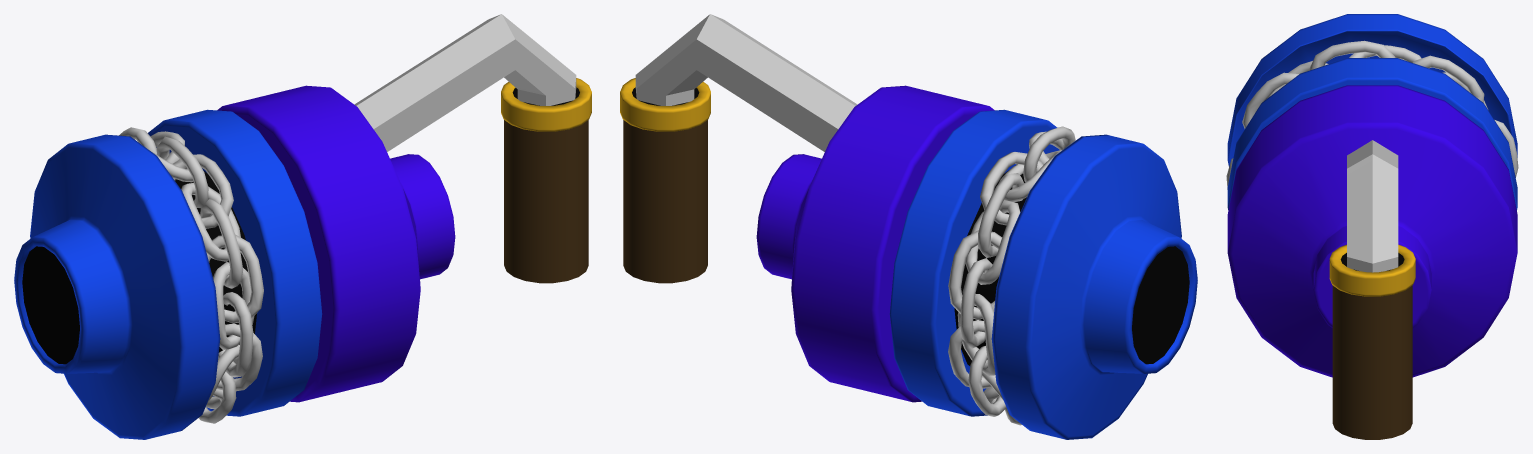
The model's file is HookshotHandleB.glb.
3 renders of one model, left to right at view 1: azimuth 30°, elevation 25°; view 2: azimuth 150°, elevation 25°; view 3: azimuth 270°, elevation 25°, orthographic. The views are drawn at different scales.
Parts seen in each view (by area): view 1: Body Upper, Body Lower, Handle Bar, Grips Inner, Chain 2, Chain 1, Upper Void, Grip Outer, Body Void; view 2: Body Upper, Body Lower, Handle Bar, Grips Inner, Chain 1, Chain 2, Upper Void, Grip Outer, Body Void; view 3: Body Lower, Body Upper, Grips Inner, Handle Bar, Grip Outer, Chain 2, Chain 1.
Part boxes in pixels (x1,y1,x2,y2): Body Upper: (14, 109, 322, 439); Body Lower: (217, 85, 455, 402); Handle Bar: (354, 14, 576, 151); Grips Inner: (504, 120, 588, 283); Chain 2: (119, 127, 262, 423); Chain 1: (150, 131, 263, 409); Upper Void: (22, 246, 79, 364); Grip Outer: (501, 78, 591, 131); Body Void: (175, 171, 256, 352); Body Upper: (889, 109, 1197, 439); Body Lower: (756, 85, 994, 402); Handle Bar: (635, 14, 857, 151); Grips Inner: (623, 120, 707, 283); Chain 1: (948, 126, 1075, 425); Chain 2: (948, 131, 1063, 416); Upper Void: (1132, 246, 1189, 364); Grip Outer: (620, 78, 710, 131); Body Void: (954, 164, 1026, 365); Body Lower: (1227, 85, 1517, 377); Body Upper: (1227, 14, 1517, 210); Grips Inner: (1332, 285, 1412, 439); Handle Bar: (1347, 140, 1398, 272); Grip Outer: (1329, 244, 1415, 296); Chain 2: (1242, 45, 1484, 128); Chain 1: (1226, 40, 1518, 189).
Bounding box in the file's own units: 3.74 × 2.14 × 1.86.
